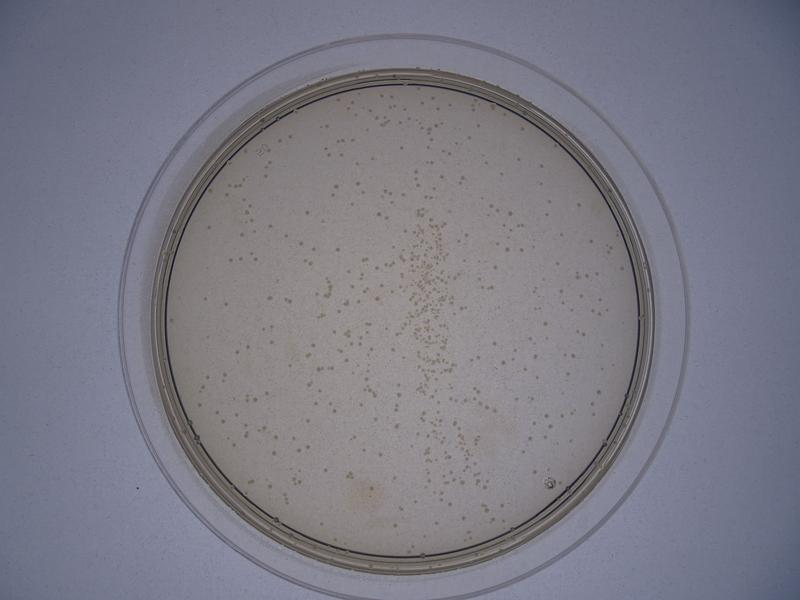colony: (495, 168, 508, 180), (572, 200, 585, 210), (539, 318, 553, 327), (265, 292, 274, 305), (221, 299, 231, 310), (330, 180, 342, 189), (511, 392, 519, 405), (396, 142, 406, 152), (537, 160, 546, 171), (303, 205, 310, 218), (333, 245, 343, 254), (262, 388, 272, 397), (489, 337, 497, 348), (386, 344, 395, 353), (309, 340, 317, 349), (304, 416, 312, 424)
